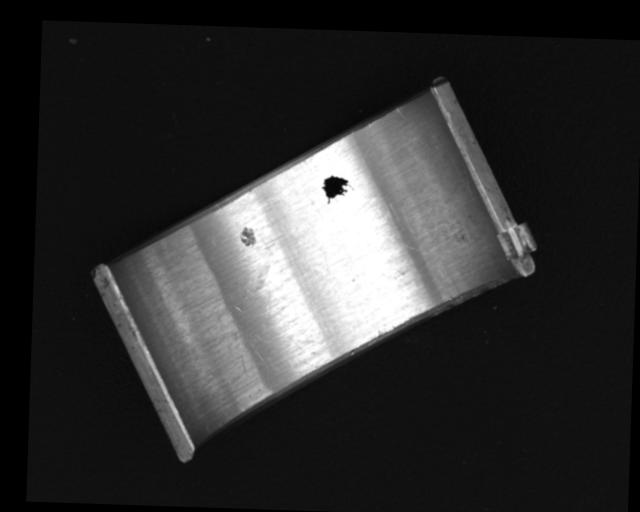blot: (321, 174, 357, 204)
bruise: (238, 225, 258, 248)
nick: (395, 105, 406, 120)
